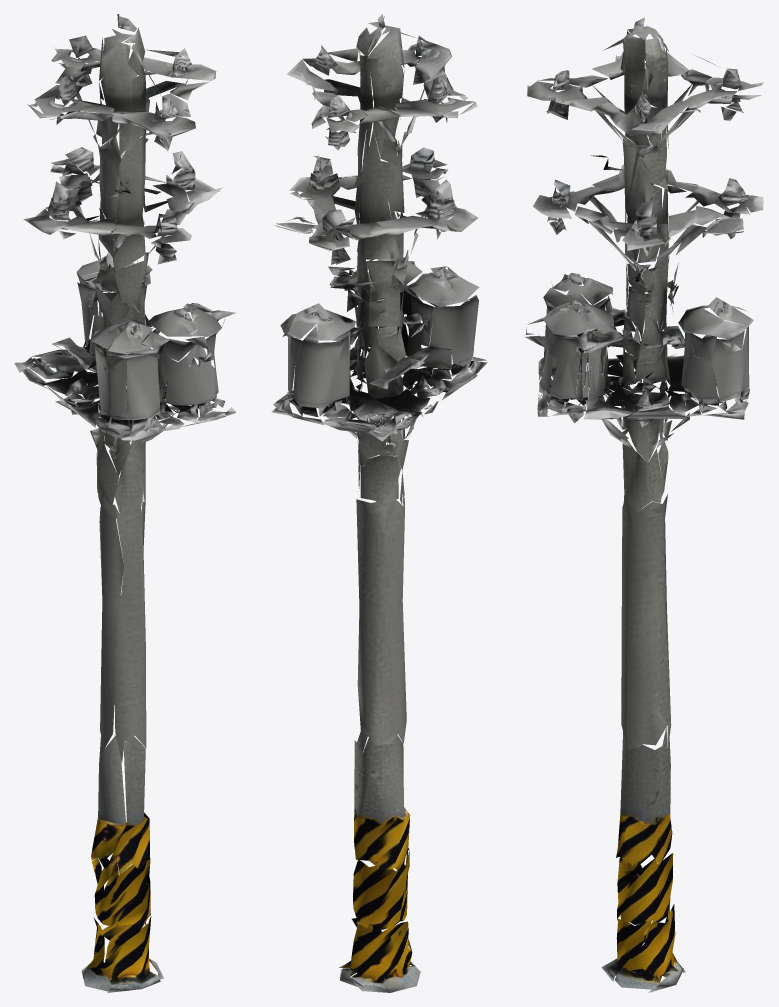
Rendered from utility_pole.glb.
3 renders of one model, left to right at view 1: azimuth 30°, elevation 25°; view 2: azimuth 150°, elevation 25°; view 3: azimuth 270°, elevation 25°, orthographic.
Parts seen in each view (by area): view 1: tripo_node_d2b4de3a-6b0a-434b-bfdc-acdf398f538d; view 2: tripo_node_d2b4de3a-6b0a-434b-bfdc-acdf398f538d; view 3: tripo_node_d2b4de3a-6b0a-434b-bfdc-acdf398f538d.
Part boxes in pixels (left/top/right/bottom): tripo_node_d2b4de3a-6b0a-434b-bfdc-acdf398f538d: left=14, top=14, right=236, bottom=992; tripo_node_d2b4de3a-6b0a-434b-bfdc-acdf398f538d: left=271, top=14, right=487, bottom=992; tripo_node_d2b4de3a-6b0a-434b-bfdc-acdf398f538d: left=524, top=17, right=764, bottom=992.
Size of the model in its own units: 1.37 by 7 by 1.59.
1 material, 1 textured.
